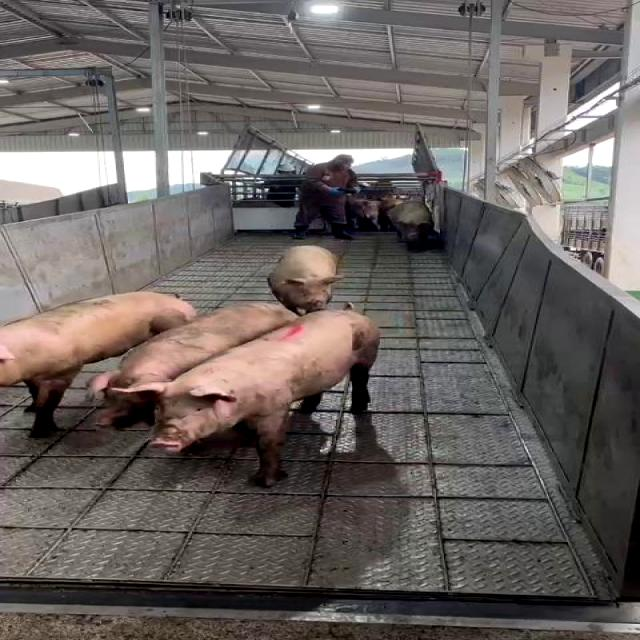pig: (142, 307, 385, 495), (0, 293, 193, 435), (97, 305, 293, 430), (277, 240, 337, 311)
